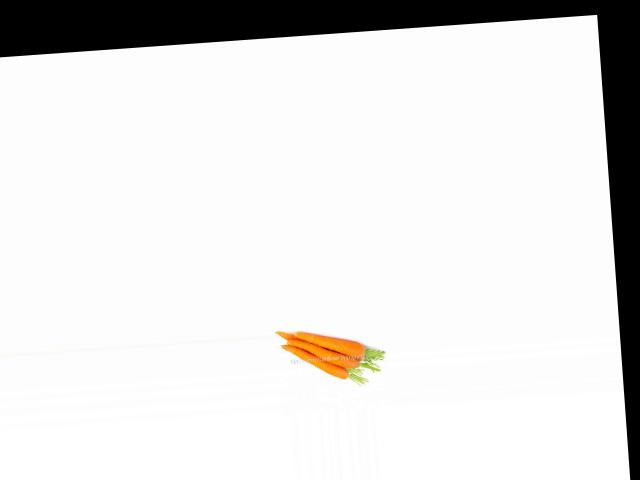carrot: (286, 320, 371, 367)
